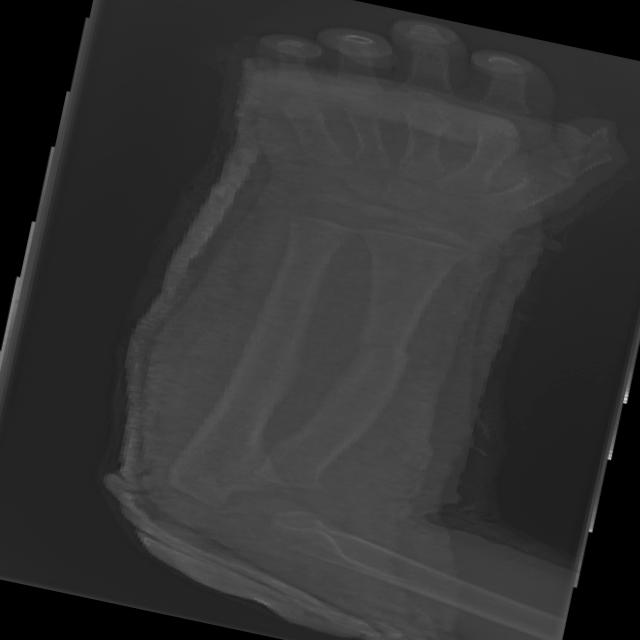forearm fracture: (294, 298, 444, 402)
